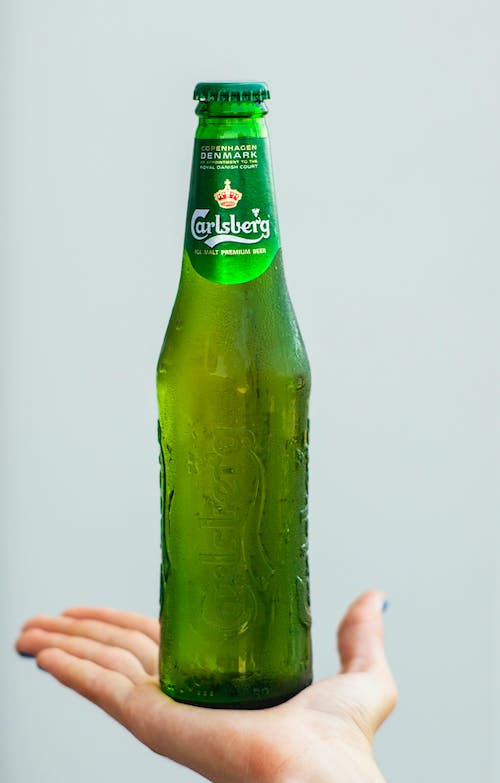alcohol: (154, 79, 315, 711)
